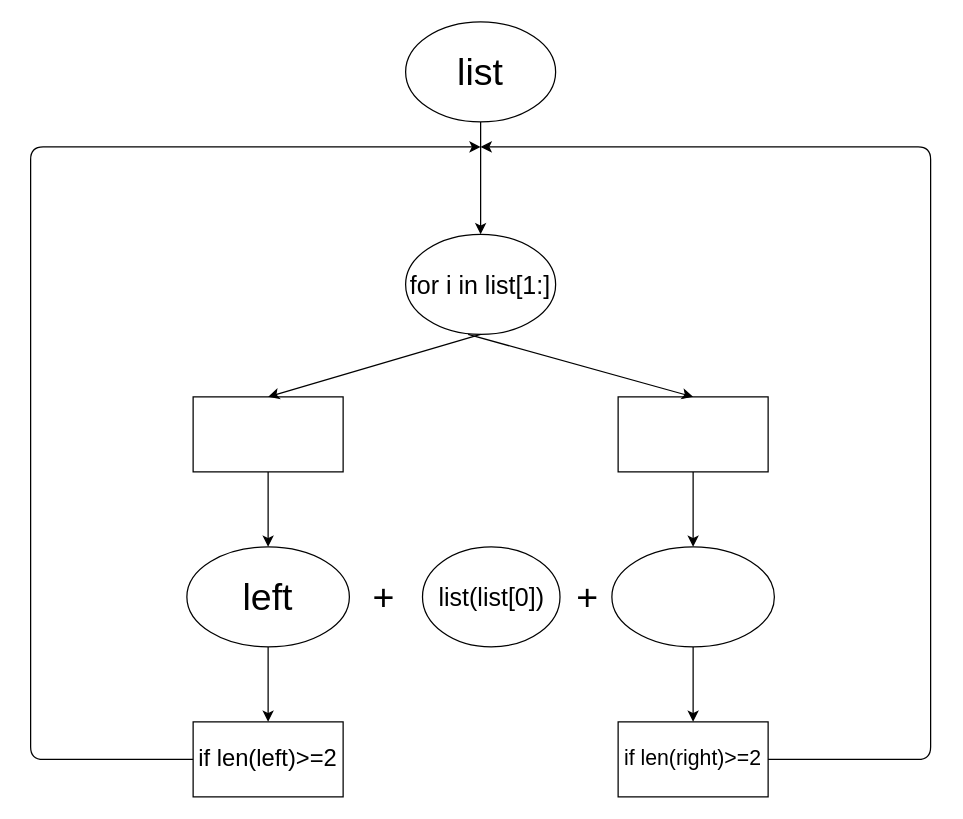
The diagram is 963 pixels wide and 819 high, and some of its shapes have lost their labels. Here are the shapes that lost their labels. From the top down, the centre of each, then its label:
the point at 267,434: if list[i]<list[0]
the point at 692,434: if list[i]>=list[0]
the point at 692,596: right
